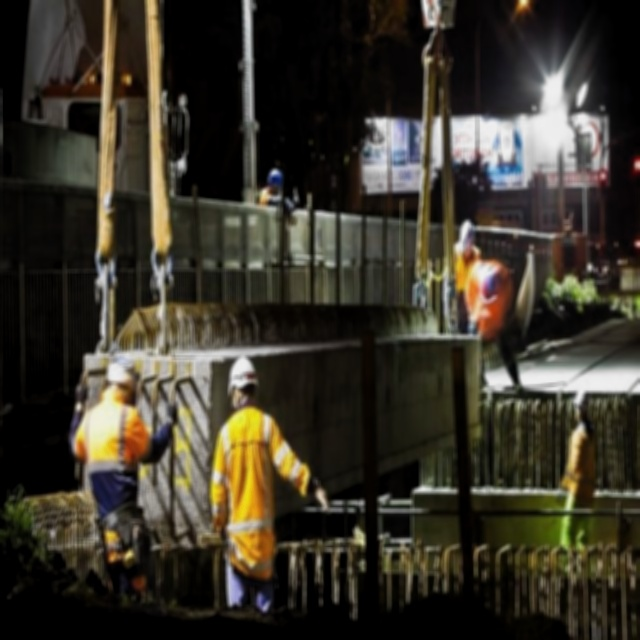Con_Casco: (227, 356, 258, 406)
Con_Chaleco: (211, 409, 276, 563)
